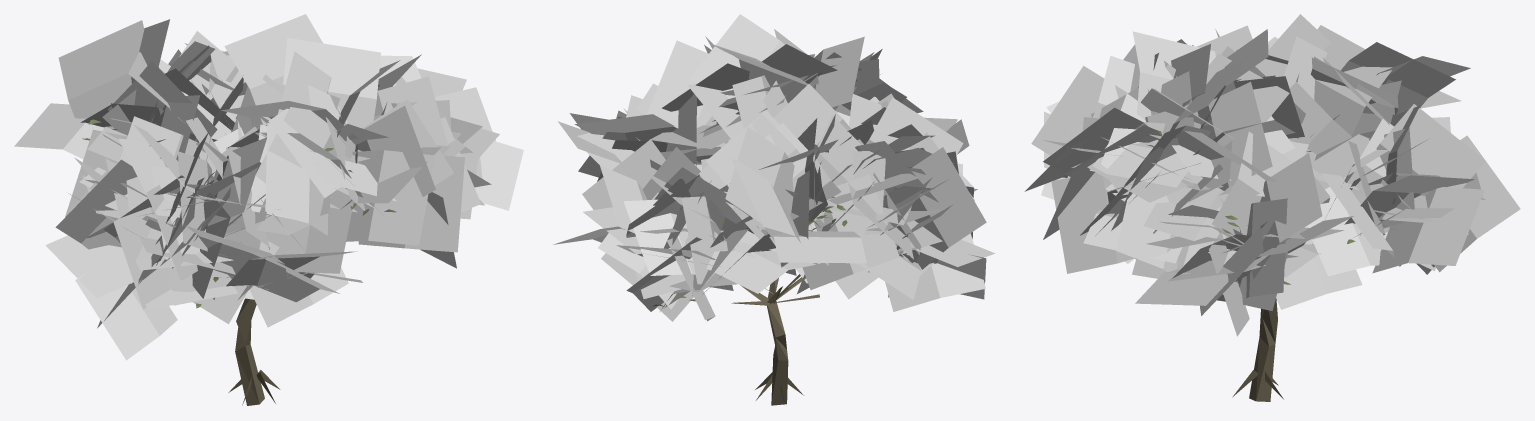
Rendered from Oleastre_Dense_LOD2.fbx.
The picture shows the model from 3 angles, left to right: view 1: azimuth 30°, elevation 25°; view 2: azimuth 150°, elevation 25°; view 3: azimuth 270°, elevation 25°; orthographic projection. The views are drawn at different scales.
Visible parts, largest first — view 1: Oleastre_Dense_LOD2; view 2: Oleastre_Dense_LOD2; view 3: Oleastre_Dense_LOD2.
Part boxes in pixels (bbox=[...]): Oleastre_Dense_LOD2: bbox=[14, 14, 523, 405]; Oleastre_Dense_LOD2: bbox=[553, 14, 995, 405]; Oleastre_Dense_LOD2: bbox=[1024, 14, 1520, 401].
Bounding box in the file's own units: 619 × 485 × 587.
